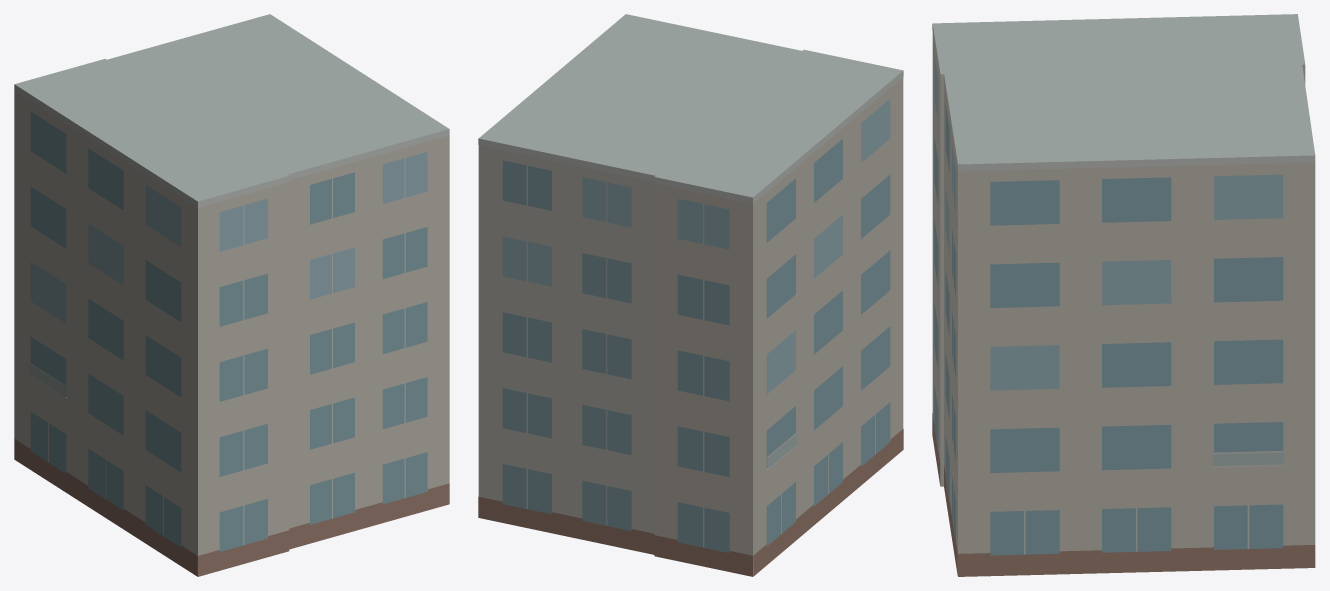
The model's file is survey-upis-32702896.glb.
The picture shows the model from 3 angles, left to right: view 1: azimuth 30°, elevation 25°; view 2: azimuth 150°, elevation 25°; view 3: azimuth 270°, elevation 25°; orthographic projection. The views are drawn at different scales.
Parts seen in each view (by area): view 1: survey-upis-32702896.tmp; view 2: survey-upis-32702896.tmp; view 3: survey-upis-32702896.tmp.
Boxes of the visible parts, x1=… form: survey-upis-32702896.tmp: x1=14, y1=14, x2=449, y2=576; survey-upis-32702896.tmp: x1=478, y1=14, x2=903, y2=576; survey-upis-32702896.tmp: x1=932, y1=14, x2=1315, y2=576.
Bounding box in the file's own units: 11.35 × 14.5 × 12.21.
